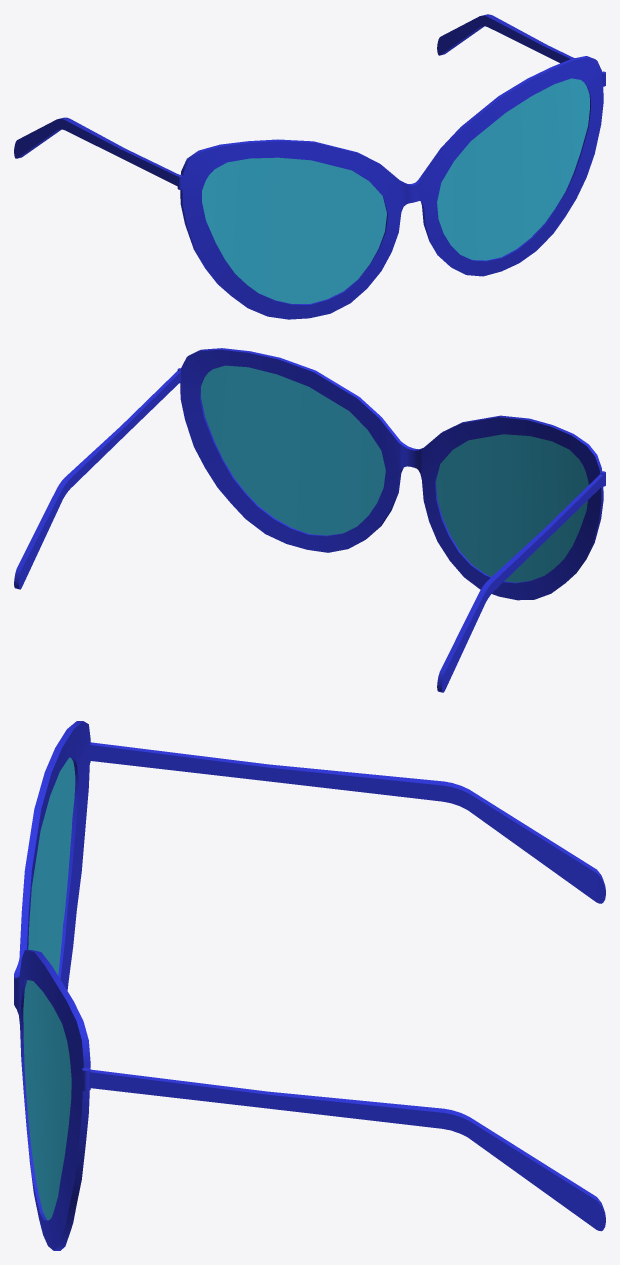
Rendered from glasses-4.glb.
3 renders of one model, top to bottom at view 1: azimuth 30°, elevation 25°; view 2: azimuth 150°, elevation 25°; view 3: azimuth 270°, elevation 25°, orthographic. The views are drawn at different scales.
Parts seen in each view (by area): view 1: glasses17.001; view 2: glasses17.001; view 3: glasses17.001.
Part boxes in pixels (x1,y1,x2,y2): glasses17.001: (14,14,605,319); glasses17.001: (14,348,605,692); glasses17.001: (14,721,605,1250).
Size of the model in its own units: 2.15 by 0.8921 by 1.62.
